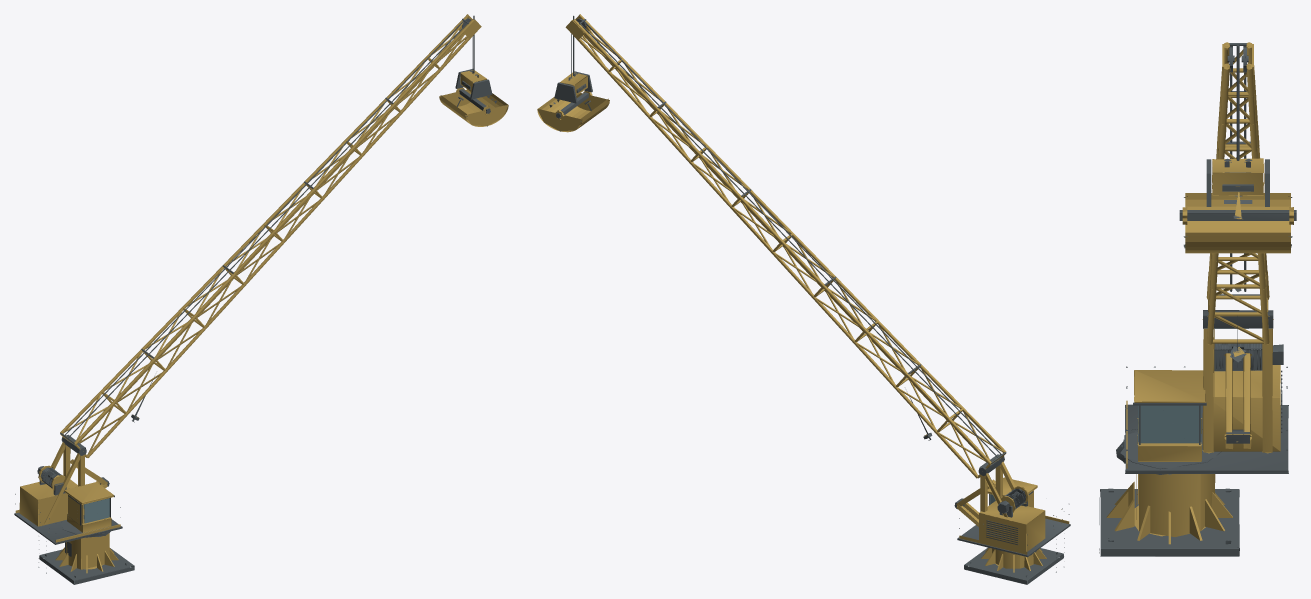
Rendered from bulk_distance.glb.
The picture shows the model from 3 angles, left to right: view 1: azimuth 30°, elevation 25°; view 2: azimuth 150°, elevation 25°; view 3: azimuth 270°, elevation 25°; orthographic projection. The views are drawn at different scales.
Parts seen in each view (by area): view 1: bulk_distance; view 2: bulk_distance; view 3: bulk_distance.
Boxes of the visible parts, left/top/right/bottom form: bulk_distance: left=14, top=14, right=508, bottom=584; bulk_distance: left=537, top=14, right=1070, bottom=584; bulk_distance: left=1099, top=42, right=1296, bottom=556.
Size of the model in its own units: 41.73 by 37.12 by 7.59.
